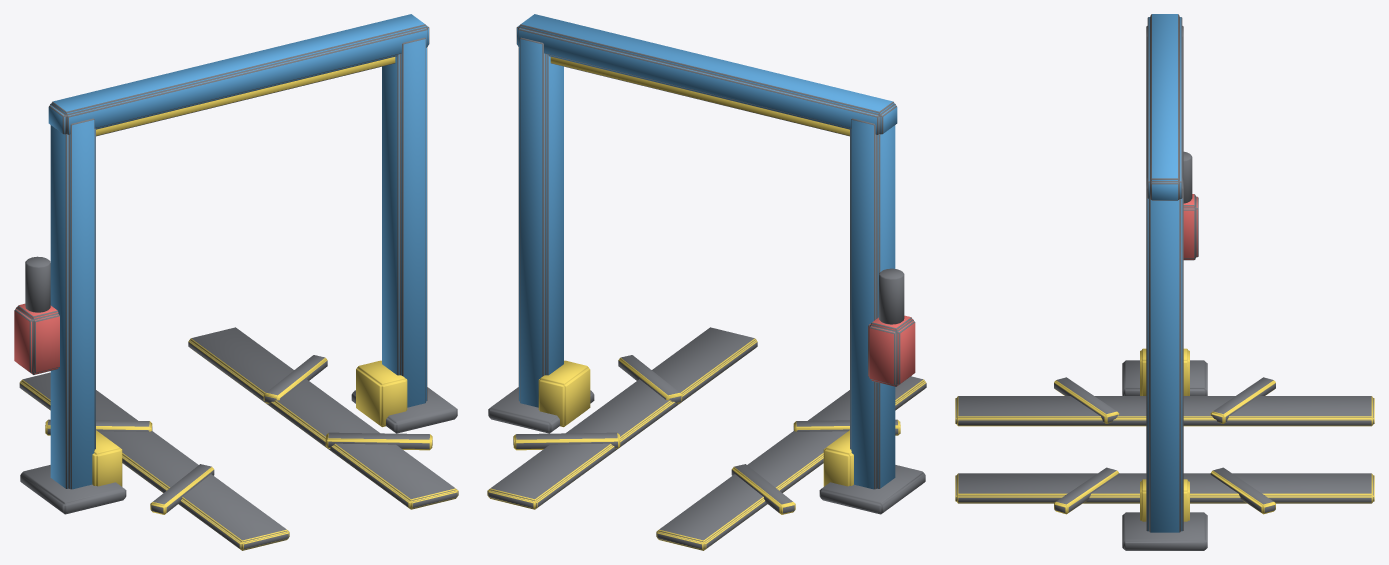
Rendered from OW_HydraulicCarLift.fbx.
The picture shows the model from 3 angles, left to right: view 1: azimuth 30°, elevation 25°; view 2: azimuth 150°, elevation 25°; view 3: azimuth 270°, elevation 25°; orthographic projection. The views are drawn at different scales.
Visible parts, largest first — view 1: FramePosts, LiftCarriage; view 2: FramePosts, LiftCarriage; view 3: LiftCarriage, FramePosts.
Boxes of the visible parts, left/top/right/bottom form: FramePosts: left=14, top=14, right=457, bottom=514; LiftCarriage: left=19, top=327, right=458, bottom=550; FramePosts: left=488, top=14, right=925, bottom=514; LiftCarriage: left=487, top=327, right=926, bottom=550; LiftCarriage: left=955, top=348, right=1374, bottom=521; FramePosts: left=1122, top=14, right=1207, bottom=550.
Size of the model in its own units: 405 by 370 by 385.
